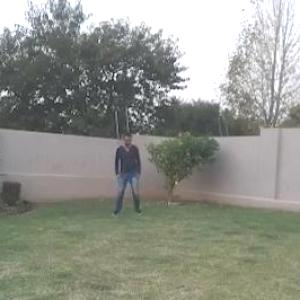follow: (112, 126, 142, 222)
